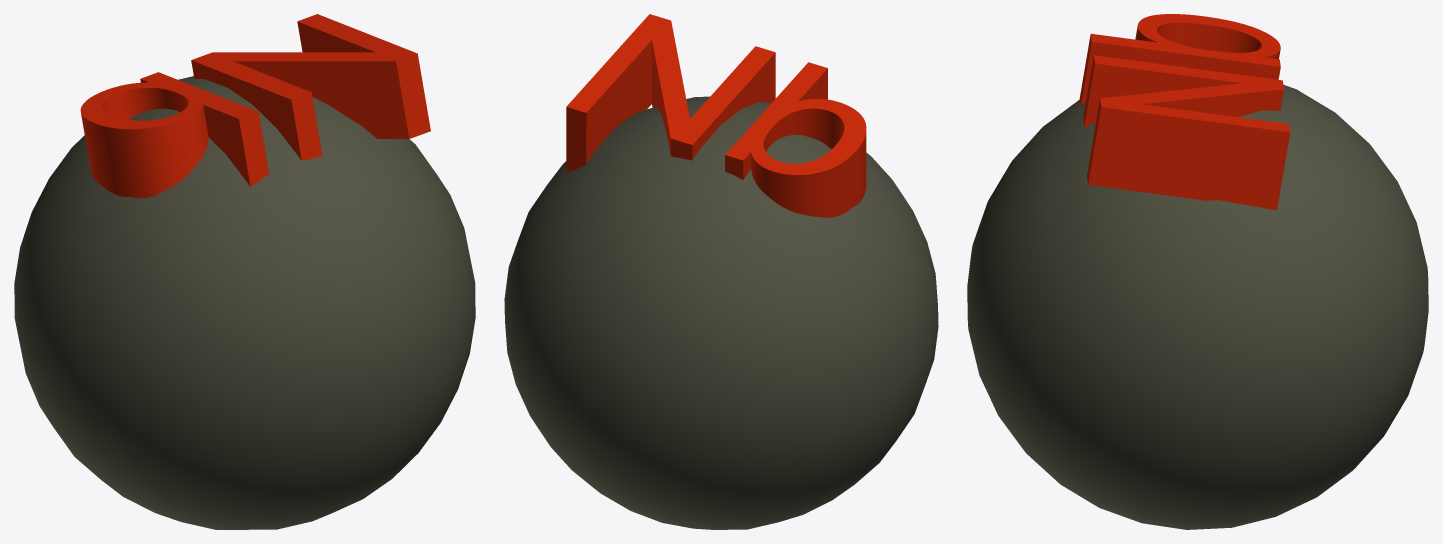
The picture shows the model from 3 angles, left to right: view 1: azimuth 30°, elevation 25°; view 2: azimuth 150°, elevation 25°; view 3: azimuth 270°, elevation 25°; orthographic projection. The views are drawn at different scales.
Visible parts, largest first — view 1: Nb; view 2: Nb; view 3: Nb.
Boxes of the visible parts, left/top/right/bottom form: Nb: left=14, top=14, right=475, bottom=529; Nb: left=504, top=14, right=938, bottom=529; Nb: left=967, top=14, right=1428, bottom=529.
Bounding box in the file's own units: 38.63 × 42.57 × 38.6.
